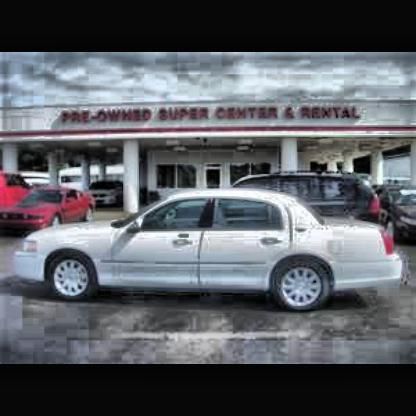Lincoln Town Car Sedan 2011: (11, 184, 410, 311)
